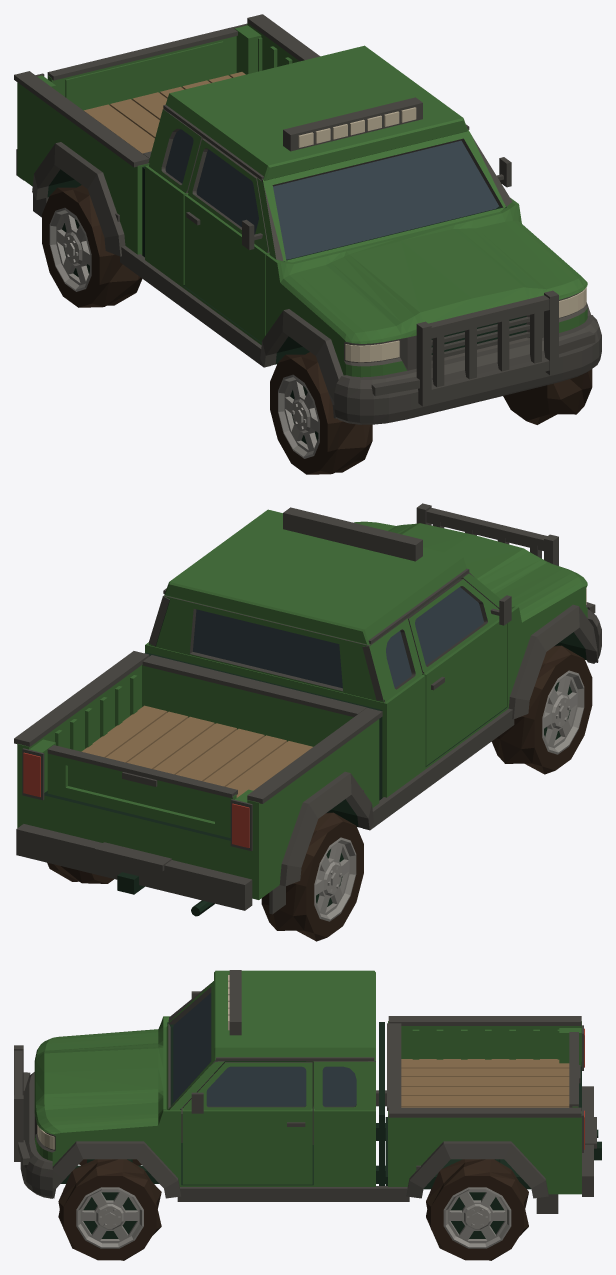
The model's file is ranger-pickup-truck-97057d.glb.
The picture shows the model from 3 angles, top to bottom: view 1: azimuth 30°, elevation 25°; view 2: azimuth 150°, elevation 25°; view 3: azimuth 270°, elevation 25°; orthographic projection. The views are drawn at different scales.
Visible parts, largest first — view 1: body, door-l-mesh, tailgate-mesh, wheel-fl, wheel-rl, wheel-fr; view 2: body, door-l-mesh, tailgate-mesh, wheel-fl, wheel-rl, wheel-rr; view 3: body, door-r-mesh, wheel-fr, wheel-rr, tailgate-mesh.
Part boxes in pixels (x1,y1,x2,y2): body: (14, 14, 601, 424); door-l-mesh: (184, 139, 269, 342); tailgate-mesh: (47, 27, 237, 110); wheel-fl: (270, 352, 372, 474); wheel-rl: (42, 185, 142, 307); wheel-fr: (503, 369, 592, 424); body: (14, 503, 601, 916); door-l-mesh: (407, 579, 511, 765); tailgate-mesh: (47, 745, 237, 837); wheel-fl: (491, 645, 592, 774); wheel-rl: (261, 812, 363, 941); wheel-rr: (47, 862, 113, 883); body: (14, 970, 601, 1213); door-r-mesh: (182, 1062, 312, 1184); wheel-fr: (58, 1159, 161, 1260); wheel-rr: (426, 1159, 528, 1260); tailgate-mesh: (569, 1032, 580, 1107).
Size of the model in its own units: 2.05 by 1.98 by 4.87.
